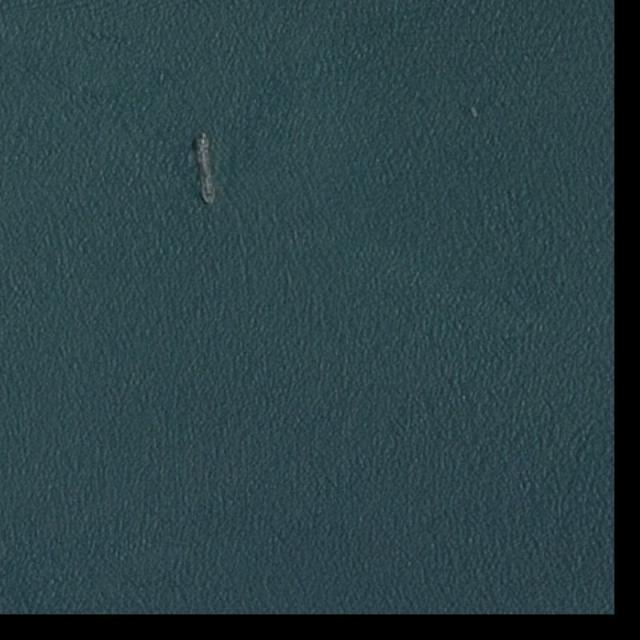ship: (195, 134, 218, 205), (469, 106, 480, 121)
